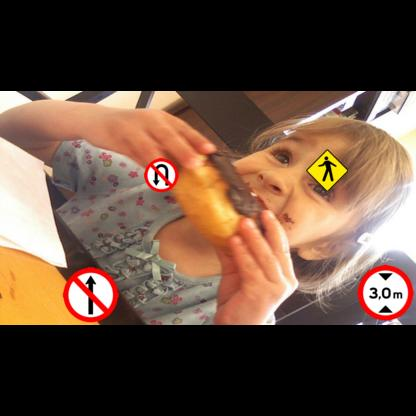A-32a: (306, 149, 349, 192)
R-15: (358, 265, 413, 320)
R-3: (63, 267, 118, 322)
R-5a: (144, 158, 178, 192)
